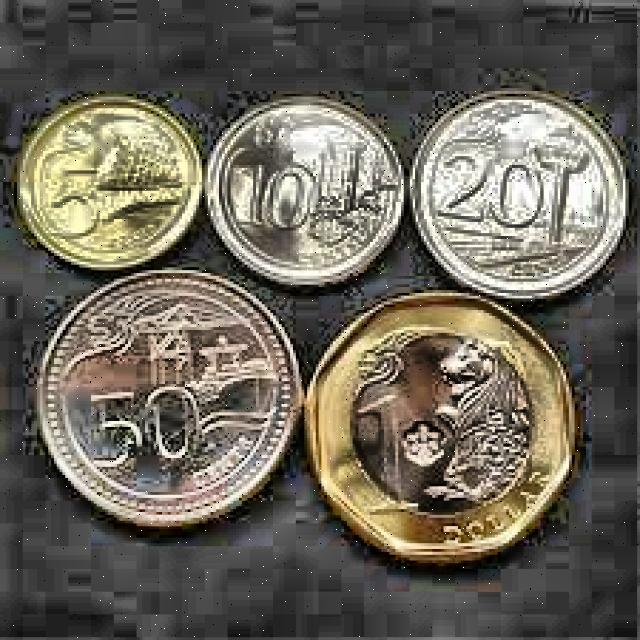coin: (304, 293, 572, 560)
